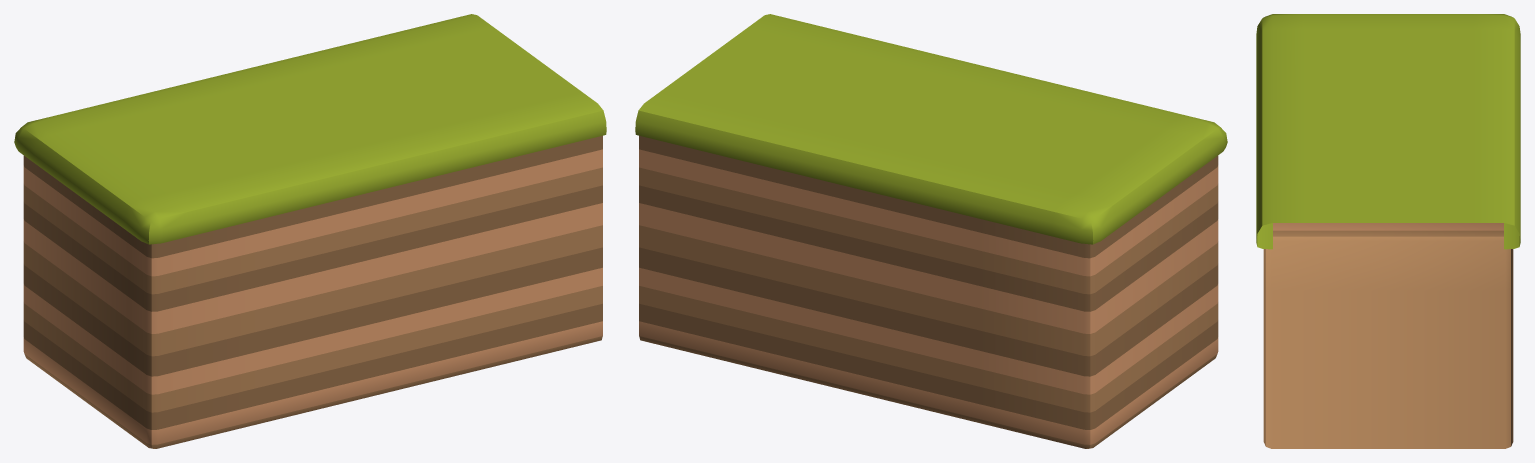
The model's file is Cube_Grass_SideBottom_Tall.029.fbx.
3 renders of one model, left to right at view 1: azimuth 30°, elevation 25°; view 2: azimuth 150°, elevation 25°; view 3: azimuth 270°, elevation 25°, orthographic. The views are drawn at different scales.
Parts seen in each view (by area): view 1: Cube_Grass_SideBottom_Tall.029; view 2: Cube_Grass_SideBottom_Tall.029; view 3: Cube_Grass_SideBottom_Tall.029.
Boxes of the visible parts, x1,y1,x2,y2 form: Cube_Grass_SideBottom_Tall.029: (14,14,606,448); Cube_Grass_SideBottom_Tall.029: (635,14,1227,448); Cube_Grass_SideBottom_Tall.029: (1256,14,1520,448).
Size of the model in its own units: 812 by 400 by 423.
